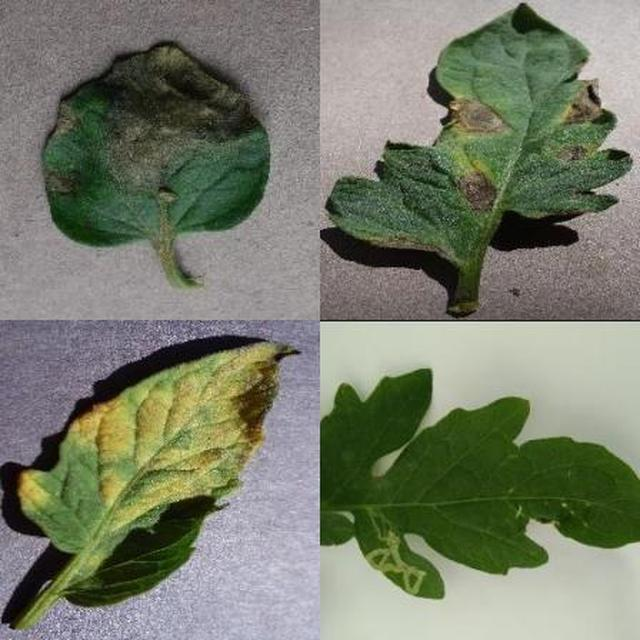Late Blight Leaf: (222, 191, 640, 640)
